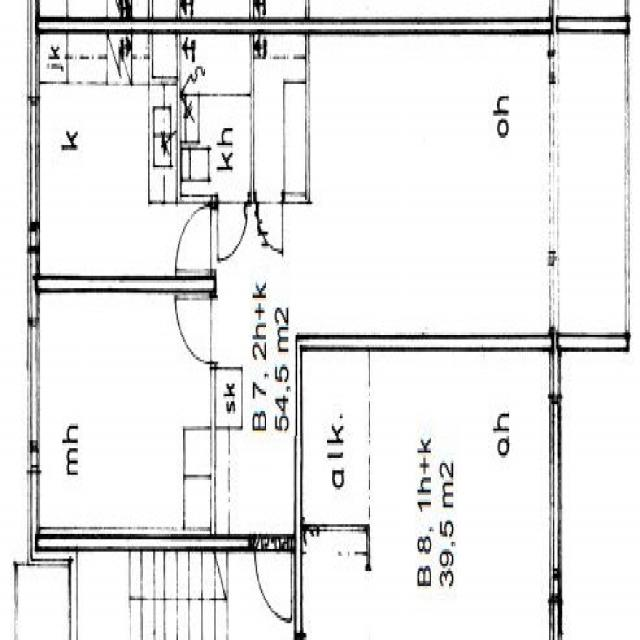door: (254, 538, 290, 620), (177, 206, 215, 270), (177, 299, 215, 362), (218, 194, 248, 261), (257, 194, 282, 252)
